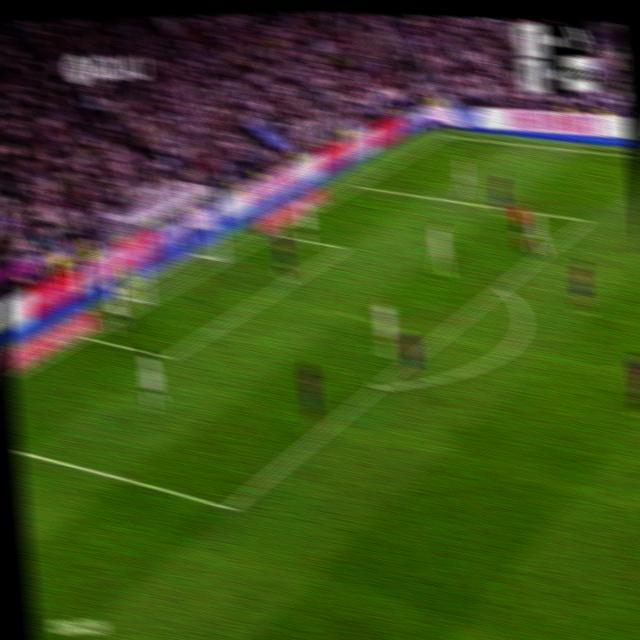bigarea_bottom_inner: (219, 489, 240, 523)
bigarea_top_inner: (580, 211, 592, 227)
bigarea_top_outter: (350, 177, 363, 191)
bottom_arc_area_intersection: (369, 373, 388, 397)
corner: (435, 128, 451, 140)
smallarea_top_inner: (337, 240, 350, 254)
top_arc_area_intersection: (492, 275, 510, 297)
